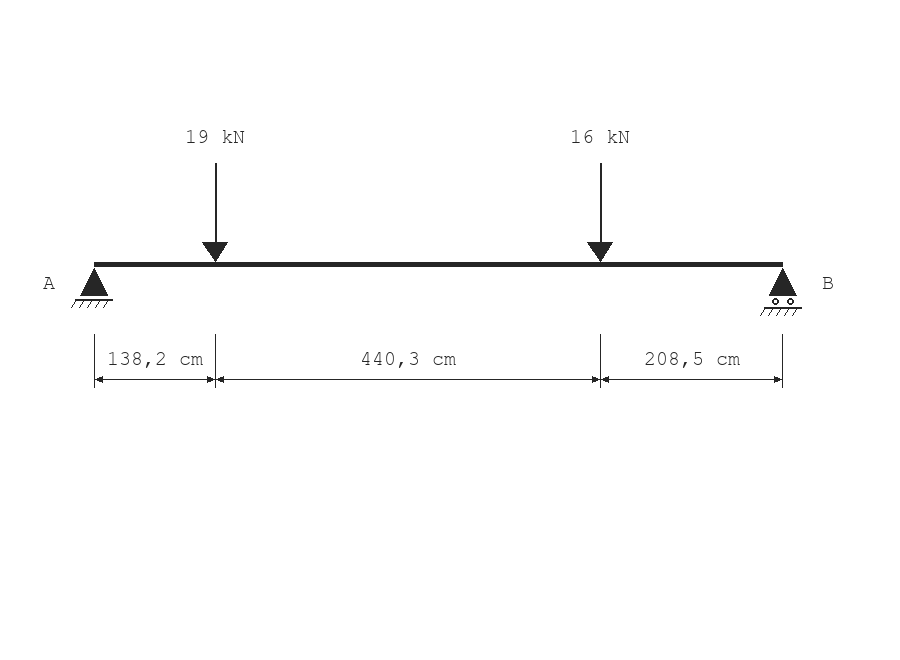pin_support: (71, 268, 113, 308)
point_load: (202, 163, 228, 262), (587, 163, 613, 262)
roller_support: (760, 268, 802, 316)
